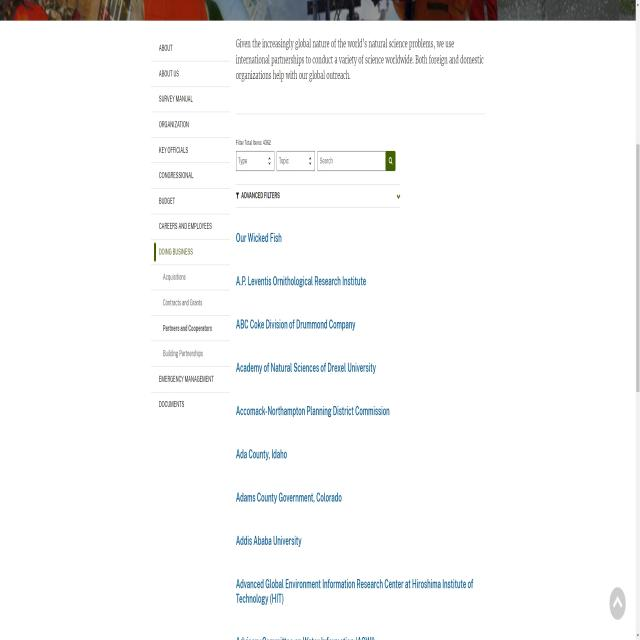menu-panel: (148, 40, 220, 421)
search: (238, 141, 398, 179)
